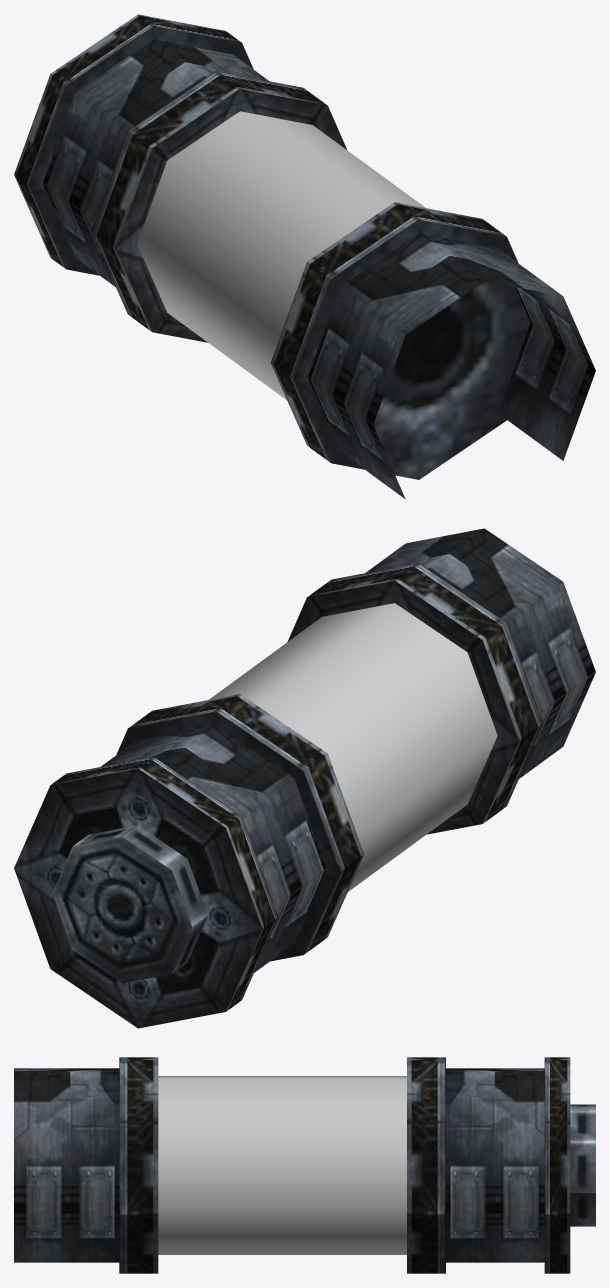
3 renders of one model, top to bottom at view 1: azimuth 30°, elevation 25°; view 2: azimuth 150°, elevation 25°; view 3: azimuth 270°, elevation 25°, orthographic. The views are drawn at different scales.
Visible parts, largest first — view 1: wj60; view 2: wj60; view 3: wj60.
Boxes of the visible parts, bbox=[...] form: wj60: bbox=[14, 14, 595, 498]; wj60: bbox=[14, 528, 595, 1028]; wj60: bbox=[14, 1057, 595, 1273].
Bounding box in the file's own units: 210 × 210 × 530.
